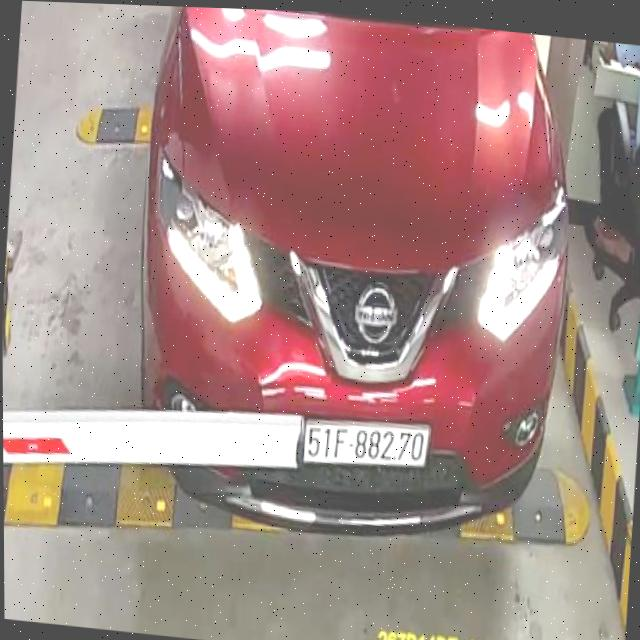car: (122, 5, 585, 566)
plate: (290, 416, 435, 483)
